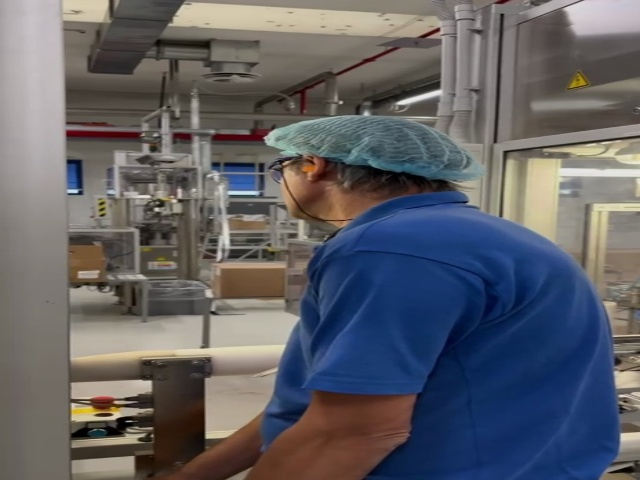Earplug: (294, 155, 323, 182)
Hairnet: (265, 113, 483, 180)
No_Helmet: (269, 120, 477, 167)
No_Vest: (262, 222, 619, 480)
Person: (264, 113, 620, 480)
Safety_Goggles: (262, 155, 301, 180)
